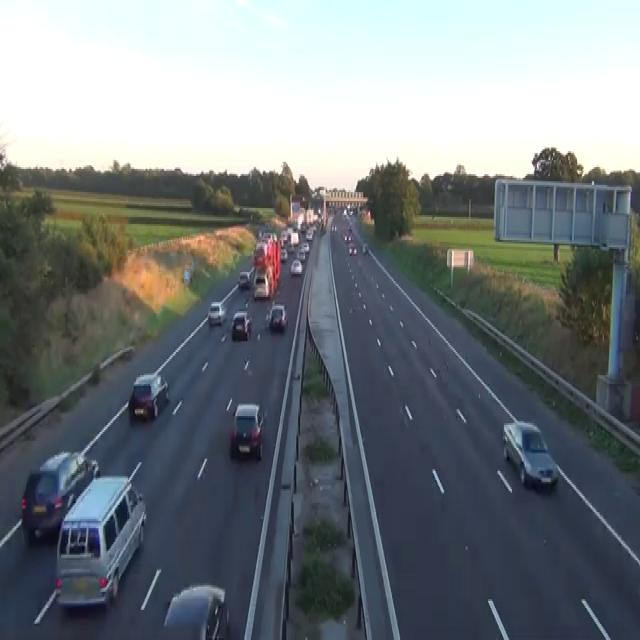Car: (21, 448, 100, 546), (502, 419, 558, 489), (160, 583, 230, 638), (230, 402, 264, 460), (128, 372, 169, 419), (231, 310, 252, 340), (268, 302, 287, 331), (207, 300, 226, 326), (252, 272, 269, 299), (40, 260, 53, 279), (183, 263, 193, 285), (290, 258, 302, 276), (238, 270, 249, 288), (91, 361, 100, 382), (261, 229, 273, 242), (248, 267, 255, 286), (280, 247, 287, 261), (301, 240, 309, 252), (297, 249, 305, 261), (305, 229, 313, 240), (348, 244, 356, 254), (362, 242, 368, 254), (343, 233, 351, 242), (300, 222, 306, 231), (331, 222, 336, 231), (343, 208, 347, 219), (347, 222, 351, 231)
Truck: (54, 462, 146, 610), (252, 233, 280, 299)
